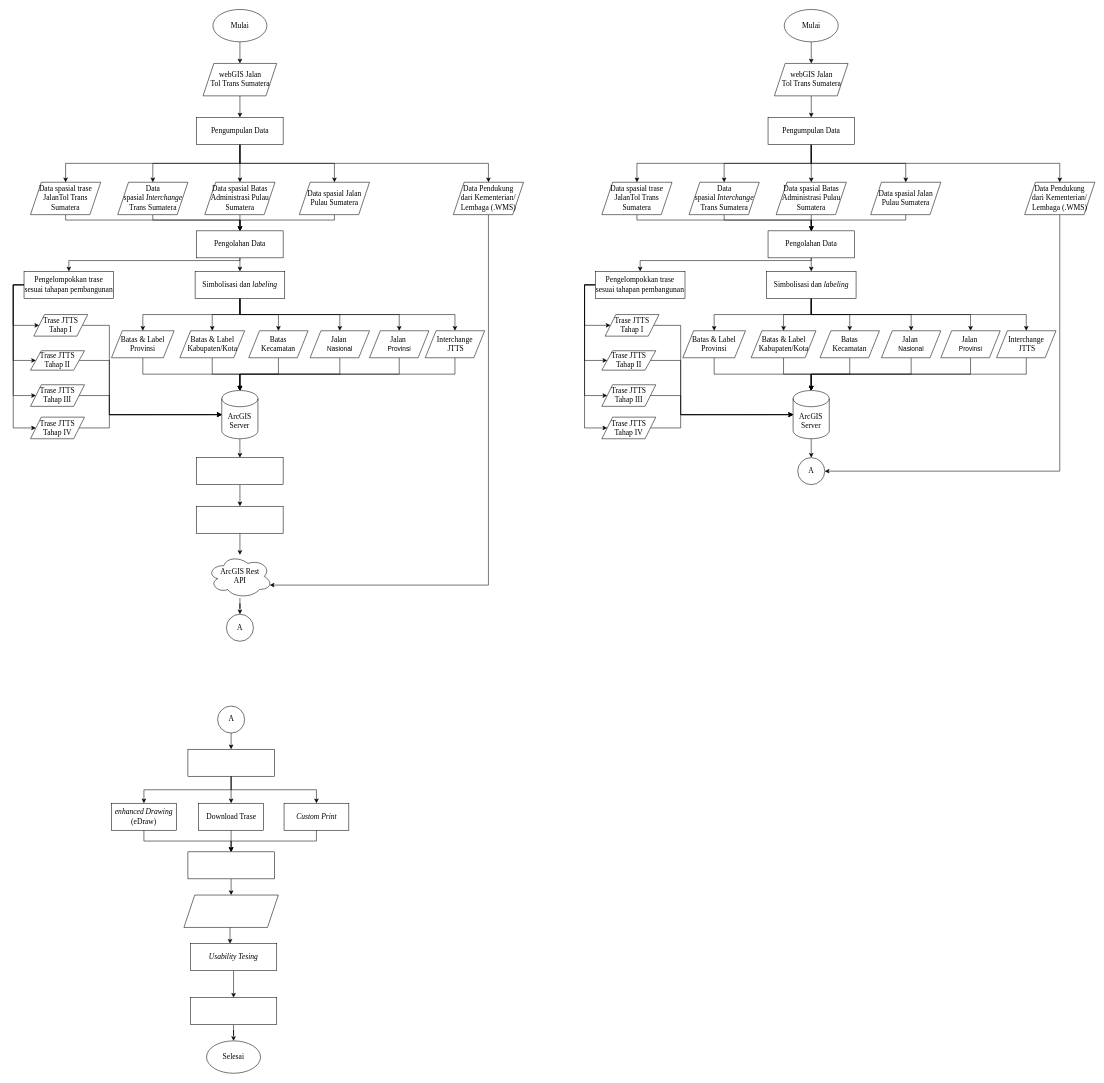
This 1104x1083 diagram has some shape labels left out. The shapes that lost their labels are listed below. From the top down, each one's centre as x and y in pixels, then its label:
the point at 239,471: Visualisasi Data Spasial
the point at 239,519: Publikasi Data dari Server ke format Web Map Service (WMS)
the point at 230,762: Pengembangan widget
the point at 230,865: Deployment webGIS
the point at 230,911: Pengembangan webGIS JalanTol Trans Sumatera
the point at 233,1011: Penyusunan laporan
